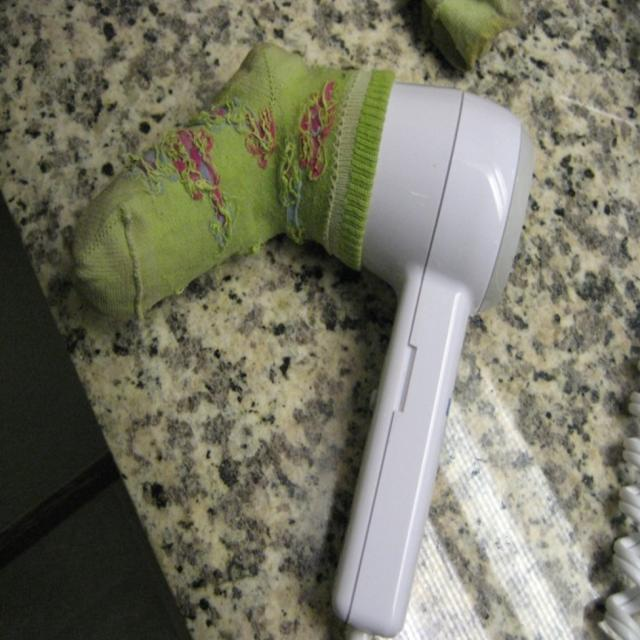dryer: (207, 13, 543, 640)
